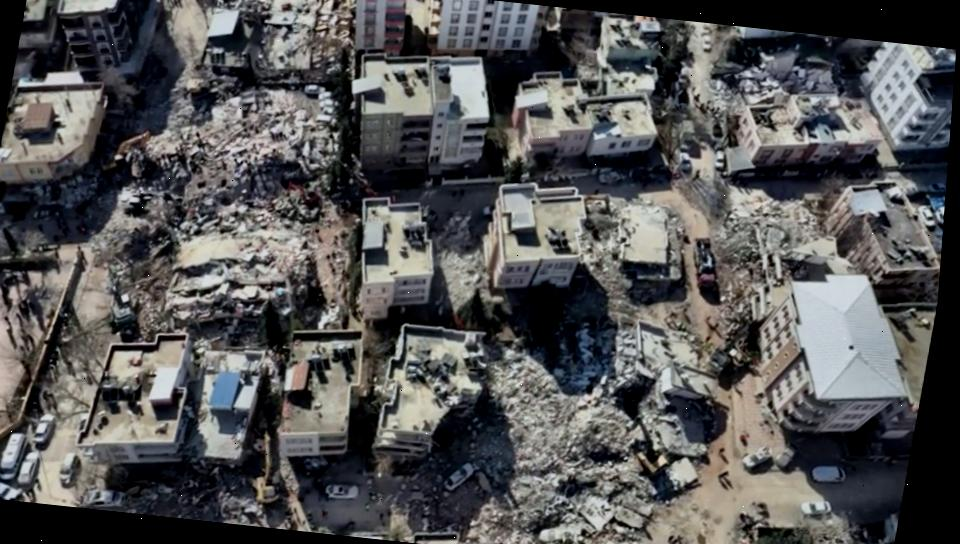kapali: (83, 38, 209, 290), (360, 475, 711, 542), (72, 475, 312, 532), (675, 305, 739, 479)
